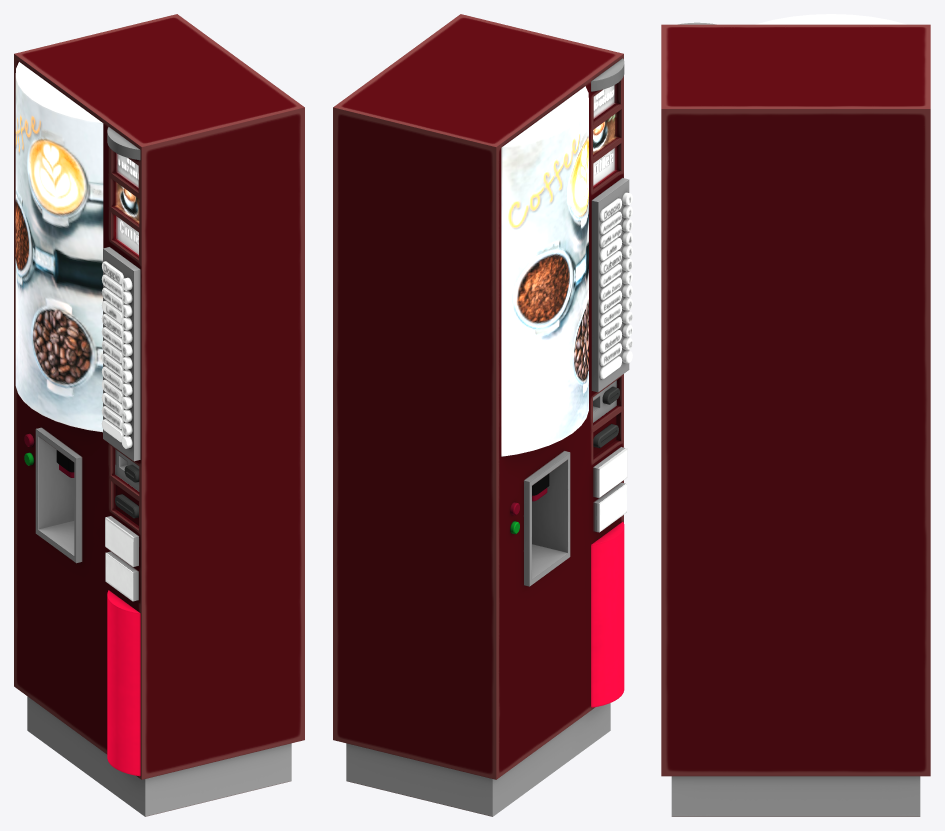
Rendered from SM_CoffieMachine.fbx.
3 views of the same model, side by side, from view 1: azimuth 30°, elevation 25°; view 2: azimuth 150°, elevation 25°; view 3: azimuth 270°, elevation 25° (orthographic). The views are drawn at different scales.
Visible parts, largest first — view 1: SM_CoffieMachine_LOD0; view 2: SM_CoffieMachine_LOD0; view 3: SM_CoffieMachine_LOD0.
Part boxes in pixels (<box>): SM_CoffieMachine_LOD0: <box>14,14,304,816</box>; SM_CoffieMachine_LOD0: <box>333,14,632,816</box>; SM_CoffieMachine_LOD0: <box>661,14,930,816</box>.
Size of the model in its own units: 67.28 by 77.18 by 225.
Materials: 1 (1 with a texture image).
